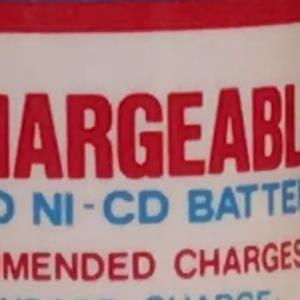keyword: (23, 180, 179, 266)
